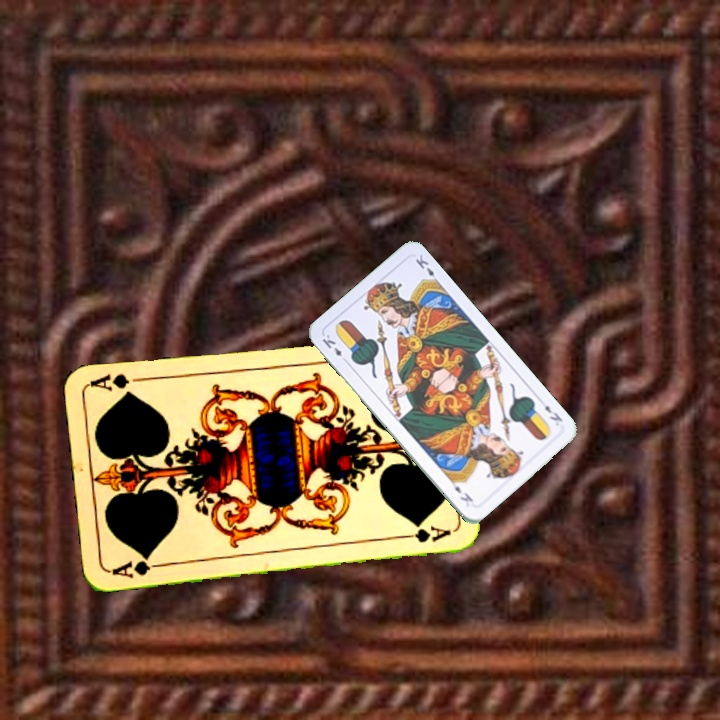EK: (318, 330, 351, 366), (536, 395, 565, 424)
GA: (107, 552, 166, 581)
